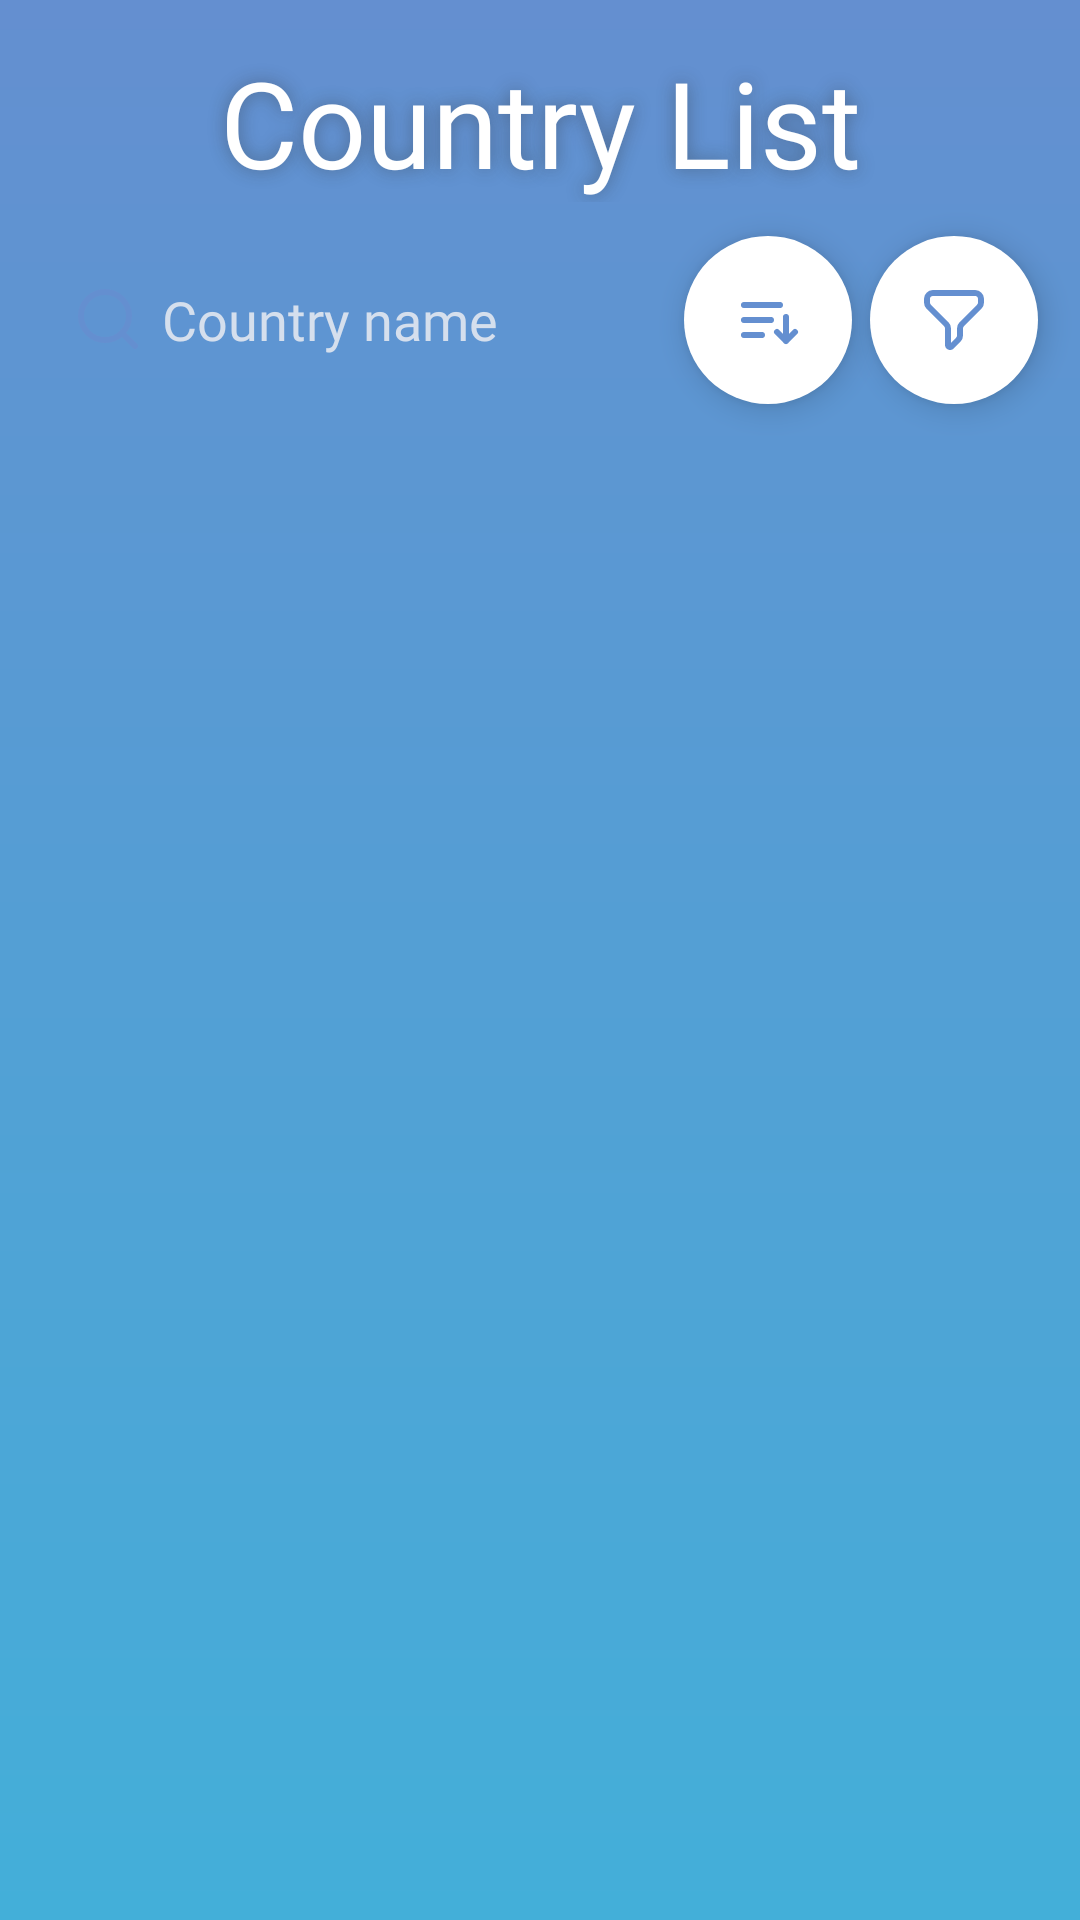

Screen size 1080 x 1920. Icon name, then its box in pixels as detection(x1, y1, x2, y2):
filter: detection(870, 236, 1038, 404)
sort: detection(684, 236, 852, 404)
